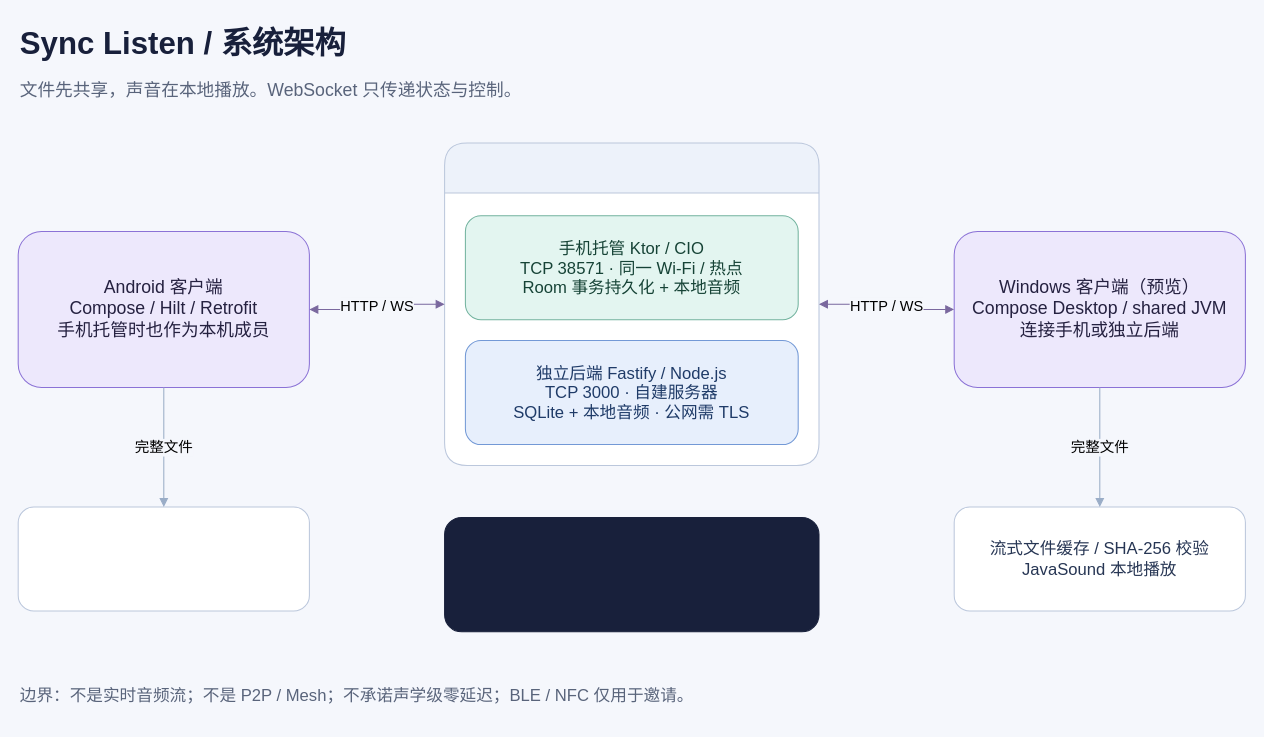
The diagram is 1264 pixels wide and 737 high, and some of its shapes have lost their labels. Here are the shapes that lost their labels. From the top down, the box of each, then its label:
(444, 142, 819, 465): 房间服务端：每个房间选择一种
(17, 506, 309, 611): Room 缓存索引 / WorkManager SHA-256 校验 → Media3 播放
(444, 516, 819, 632): REST：身份 / 上传 / 下载 WS：成员 / 列表 / 播放控制 时钟偏移 + 计划执行 + 周期 SYNC
